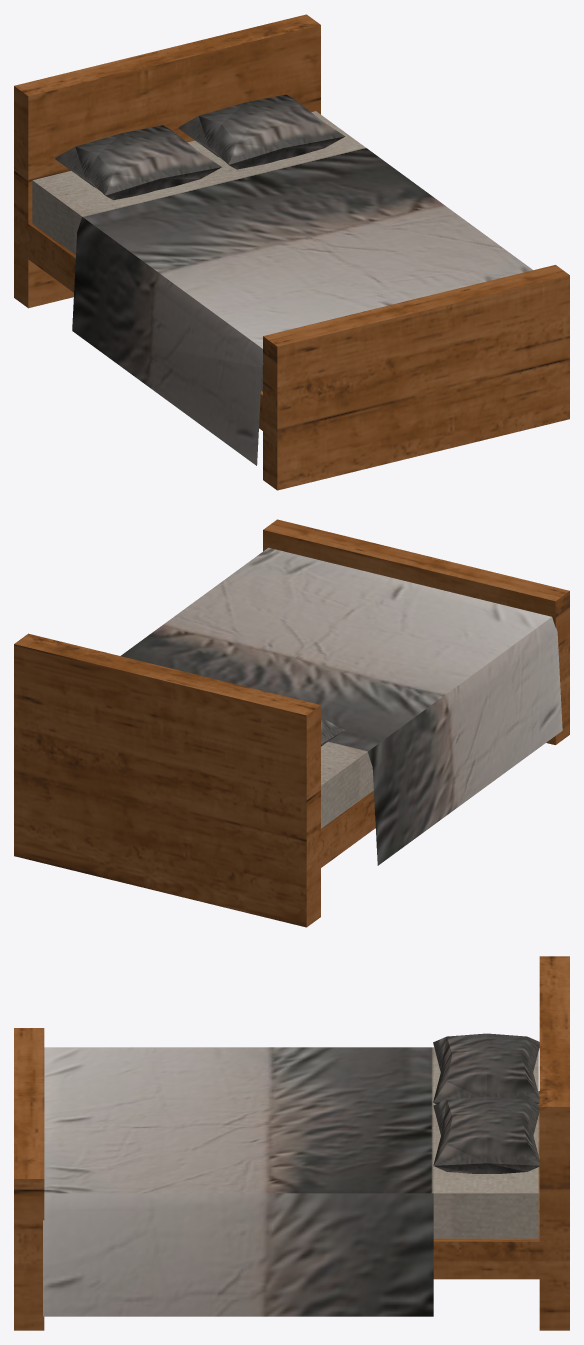
Rendered from cama_c.glb.
3 views of the same model, one above another, from view 1: azimuth 30°, elevation 25°; view 2: azimuth 150°, elevation 25°; view 3: azimuth 270°, elevation 25° (orthographic). The views are drawn at different scales.
Parts seen in each view (by area): view 1: cama_c; view 2: cama_c; view 3: cama_c.
Boxes of the visible parts, bbox=[...] form: cama_c: bbox=[14, 14, 569, 490]; cama_c: bbox=[14, 519, 569, 927]; cama_c: bbox=[14, 956, 569, 1330].
Size of the model in its own units: 1.64 by 1.1 by 2.47.
1 material, 1 textured.
